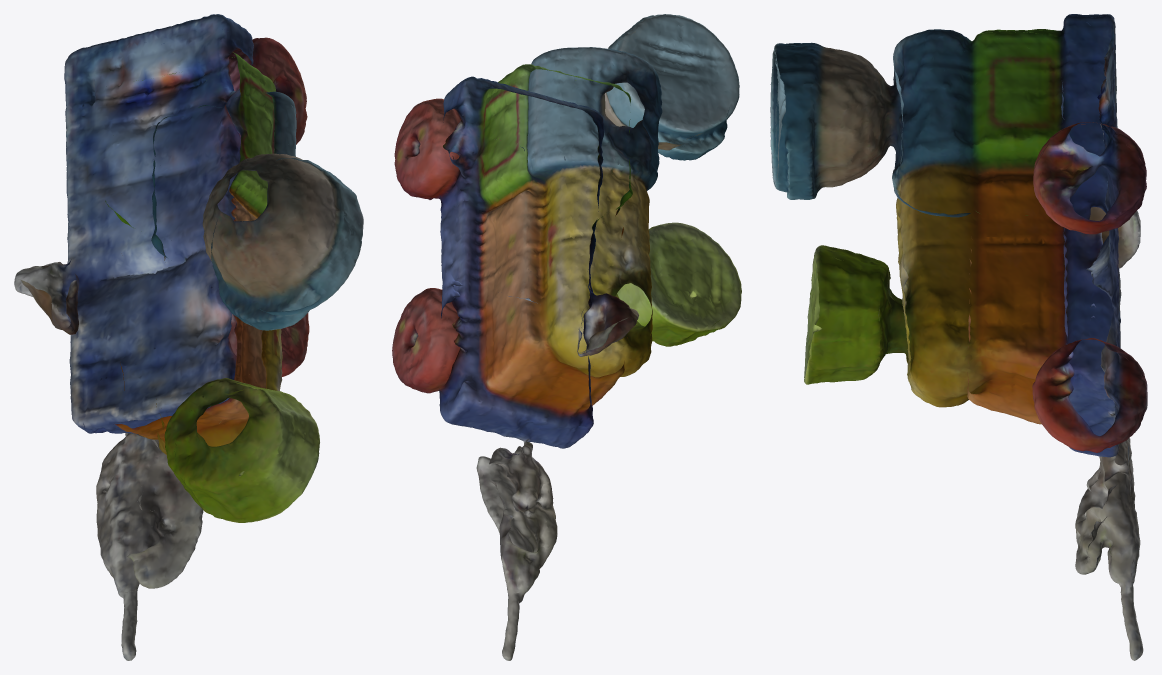
Rendered from train.glb.
3 renders of one model, left to right at view 1: azimuth 30°, elevation 25°; view 2: azimuth 150°, elevation 25°; view 3: azimuth 270°, elevation 25°, orthographic. The views are drawn at different scales.
Bounding box in the file's own units: 0.4297 × 1 × 0.5524.
